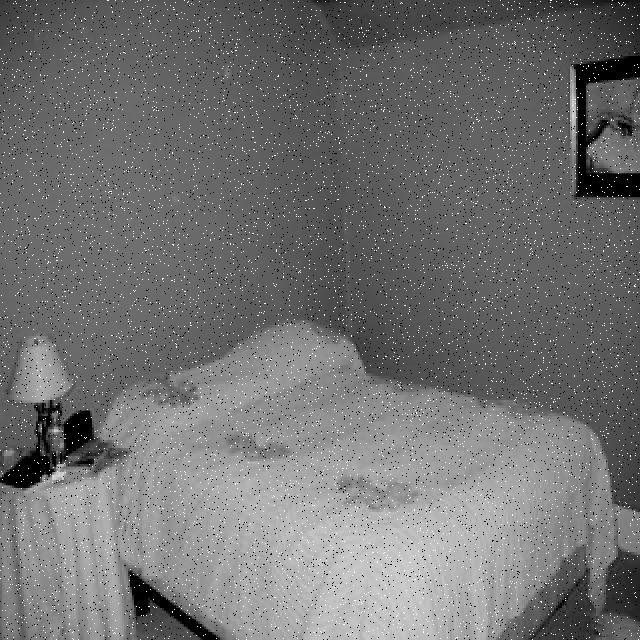bed: (92, 331, 605, 640)
